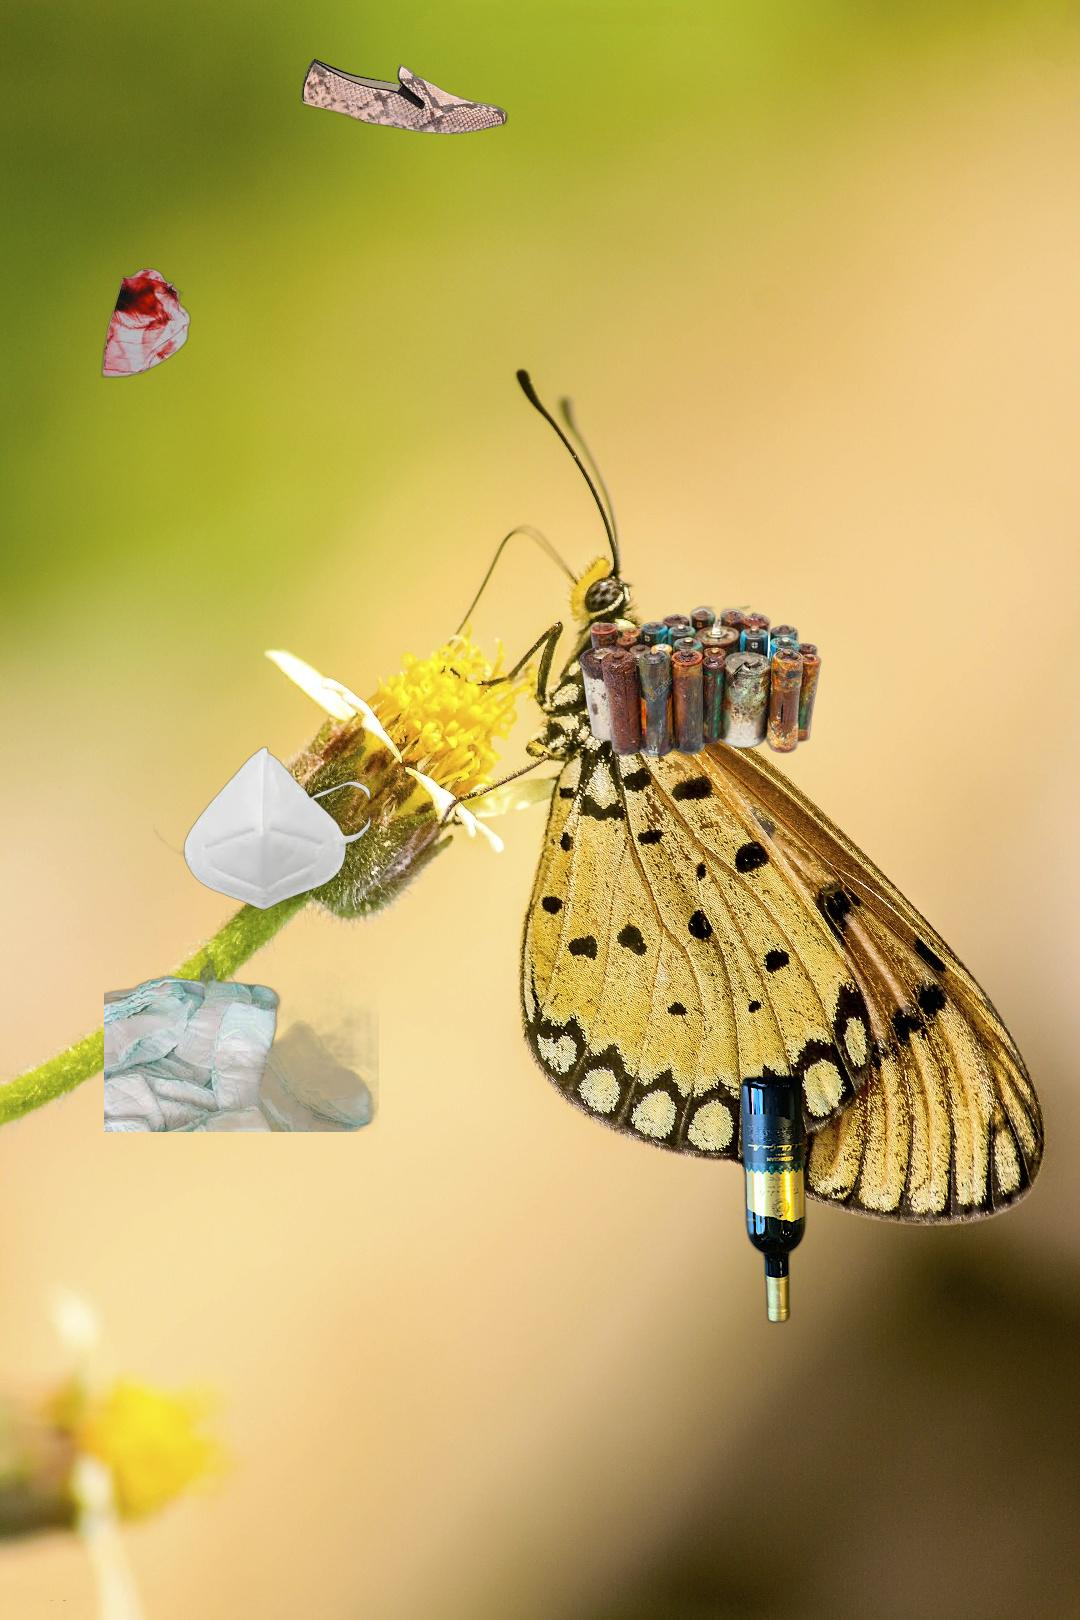battery: (577, 597, 824, 761)
glass: (730, 1069, 810, 1328)
paper-bag: (1066, 673, 1080, 897)
plastic-bag: (99, 268, 193, 380)
shoes: (298, 55, 510, 137)
trash: (104, 947, 378, 1132), (153, 744, 374, 912)
